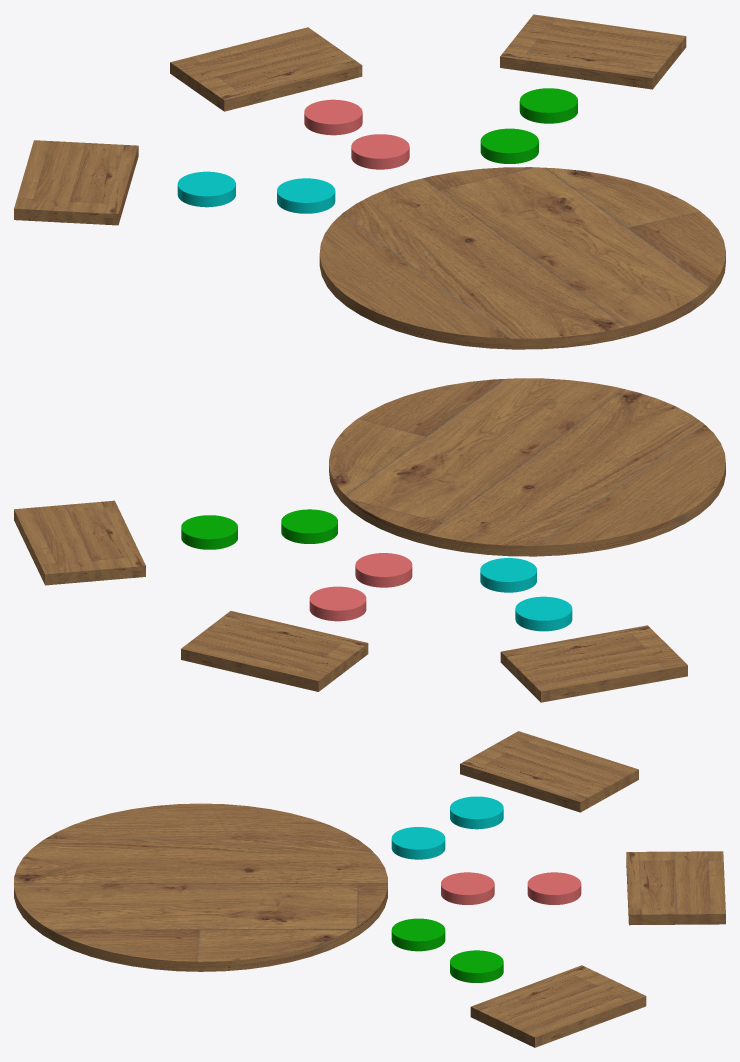
The model's file is MiniGameLevelSelectStage.fbx.
3 renders of one model, top to bottom at view 1: azimuth 30°, elevation 25°; view 2: azimuth 150°, elevation 25°; view 3: azimuth 270°, elevation 25°, orthographic. The views are drawn at different scales.
Parts seen in each view (by area): view 1: pasted__pasted__pCube10; view 2: pasted__pasted__pCube10; view 3: pasted__pasted__pCube10.
Boxes of the visible parts, x1,y1,x2,y2 form: pasted__pasted__pCube10: [14, 14, 725, 349]; pasted__pasted__pCube10: [14, 378, 725, 702]; pasted__pasted__pCube10: [14, 731, 725, 1047].
Bounding box in the file's own units: 79.27 × 1.26 × 77.84.
Materials: 4 (1 with a texture image).
